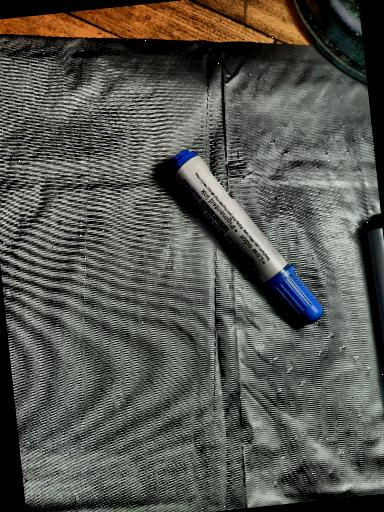marcador azul: (170, 150, 322, 323)
